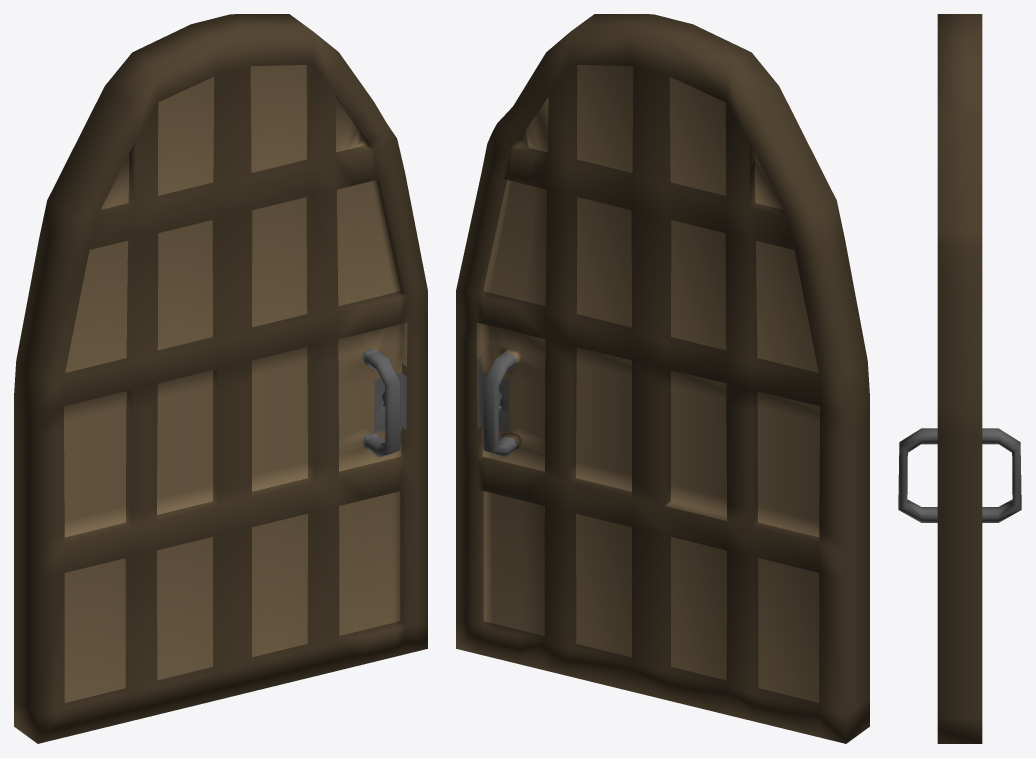
File: door.fbx
3 renders of one model, left to right at view 1: azimuth 30°, elevation 25°; view 2: azimuth 150°, elevation 25°; view 3: azimuth 270°, elevation 25°, orthographic. The views are drawn at different scales.
Parts seen in each view (by area): view 1: polySurface38; view 2: polySurface38; view 3: polySurface38.
Part boxes in pixels (<box>): polySurface38: <box>14,14,427,743</box>; polySurface38: <box>456,14,869,743</box>; polySurface38: <box>898,14,1021,743</box>.
Bounding box in the file's own units: 1.44 × 2.32 × 0.4195.
Materials: 1 (1 with a texture image).
